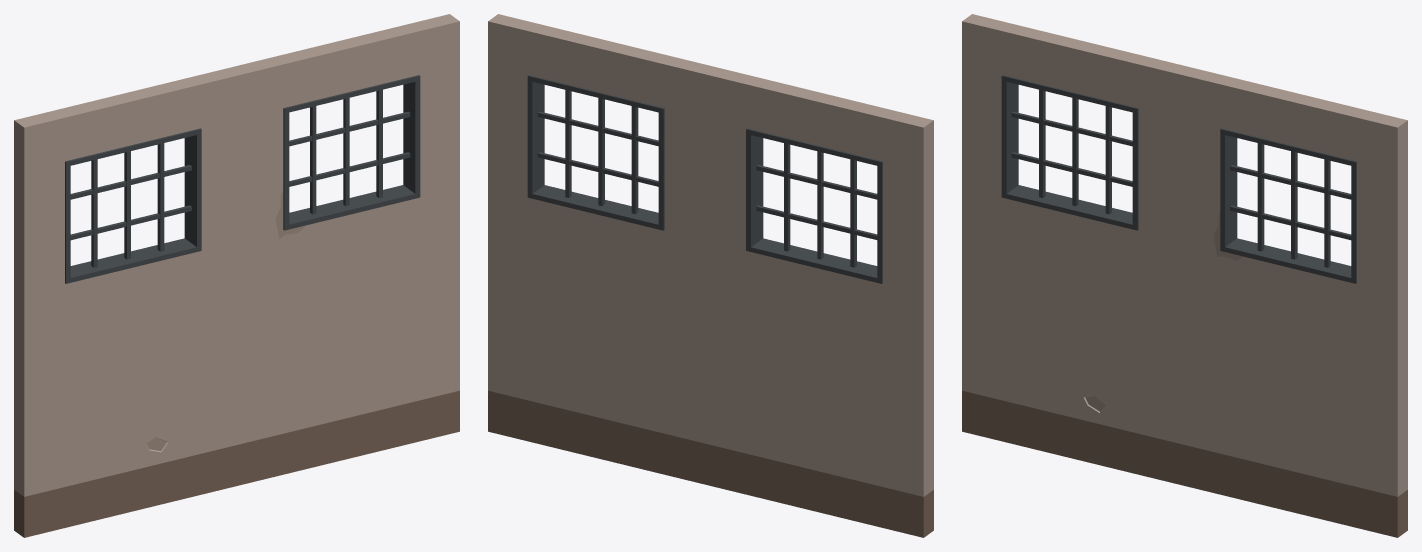
Rendered from Wall2_04.fbx.
3 views of the same model, side by side, from view 1: azimuth 30°, elevation 25°; view 2: azimuth 150°, elevation 25°; view 3: azimuth 330°, elevation 25° (orthographic).
Visible parts, largest first — view 1: Wall2_04; view 2: Wall2_04; view 3: Wall2_04.
Part boxes in pixels (bbox=[...]): Wall2_04: bbox=[14, 14, 459, 537]; Wall2_04: bbox=[488, 14, 933, 537]; Wall2_04: bbox=[962, 14, 1407, 537].
Size of the model in its own units: 1000 by 900 by 48.82.
